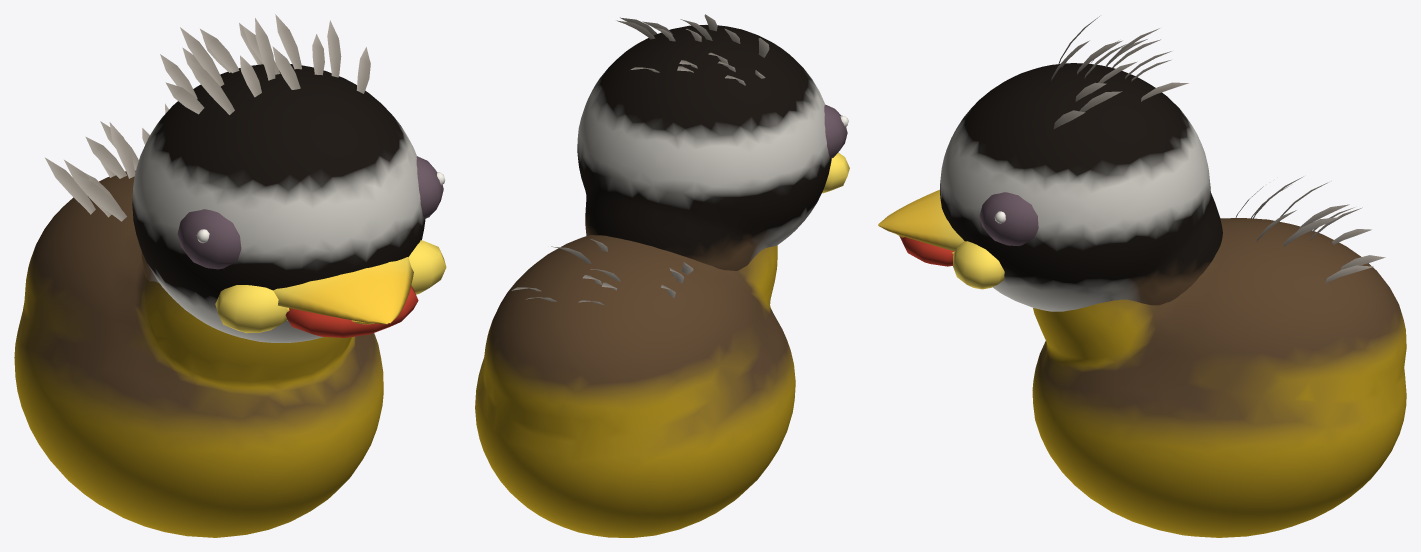
Rendered from filhote.glb.
The picture shows the model from 3 angles, left to right: view 1: azimuth 30°, elevation 25°; view 2: azimuth 150°, elevation 25°; view 3: azimuth 270°, elevation 25°; orthographic projection. The views are drawn at different scales.
Visible parts, largest first — view 1: corpo_jovem, plumagem_jovem, penugem, bico_sup, flanges, olhos_fechados, boca; view 2: corpo_jovem, plumagem_jovem, penugem, olhos_fechados, flanges; view 3: corpo_jovem, plumagem_jovem, penugem, bico_sup, olhos_fechados, flanges, boca.
Part boxes in pixels (left/top/right/bottom): corpo_jovem: left=14, top=170, right=383, bottom=537; plumagem_jovem: left=132, top=64, right=425, bottom=342; penugem: left=45, top=14, right=370, bottom=221; bico_sup: left=273, top=257, right=413, bottom=324; flanges: left=215, top=240, right=446, bottom=333; olhos_fechados: left=177, top=156, right=443, bottom=269; boca: left=285, top=285, right=418, bottom=337; corpo_jovem: left=475, top=235, right=795, bottom=537; plumagem_jovem: left=577, top=25, right=831, bottom=270; penugem: left=511, top=14, right=769, bottom=304; olhos_fechados: left=824, top=104, right=847, bottom=158; flanges: left=822, top=152, right=849, bottom=193; corpo_jovem: left=1032, top=218, right=1406, bottom=537; plumagem_jovem: left=940, top=63, right=1222, bottom=311; penugem: left=1051, top=16, right=1385, bottom=283; bico_sup: left=878, top=189, right=964, bottom=251; olhos_fechados: left=979, top=192, right=1038, bottom=245; flanges: left=953, top=241, right=1004, bottom=289; boca: left=899, top=236, right=954, bottom=266.
Size of the model in its own units: 0.1645 by 0.2761 by 0.2744.
